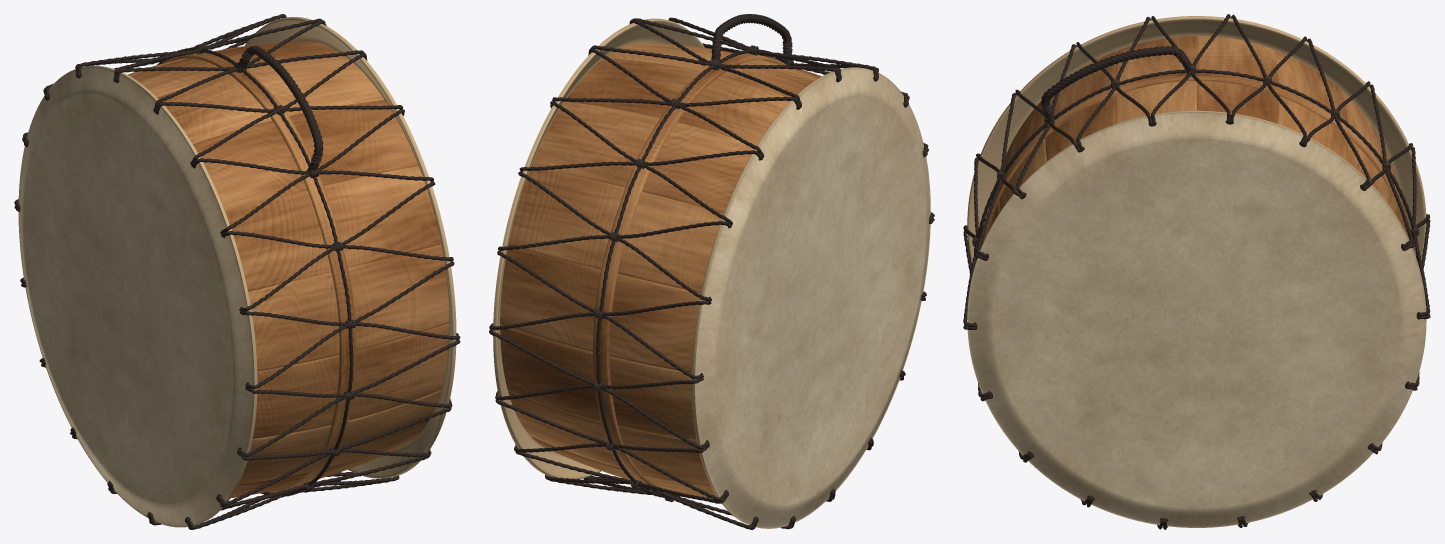
Rendered from buk.glb.
3 renders of one model, left to right at view 1: azimuth 30°, elevation 25°; view 2: azimuth 150°, elevation 25°; view 3: azimuth 270°, elevation 25°, orthographic. The views are drawn at different scales.
Visible parts, largest first — view 1: Honey wood | sixteen staves, Head_B_Outer, Tension cords | dark three-ply, Head_B_Rim, Head_B_Inner, Rim underside A, Bentwood belly hoop, Rim underside B, Carrying loop | braided grip, Bound gathers | cord serving; view 2: Honey wood | sixteen staves, Head_B_Outer, Tension cords | dark three-ply, Head_B_Rim, Head_B_Inner, Rim underside A, Bentwood belly hoop, Rim underside B, Carrying loop | braided grip, Bound gathers | cord serving; view 3: Head_A_Outer, Head_A_Rim, Head_A_Inner, Honey wood | sixteen staves, Rim underside B, Tension cords | dark three-ply, Bentwood belly hoop, Carrying loop | braided grip, Rim underside A, Bound gathers | cord serving.
Part boxes in pixels (box(x1,y1,x2,y2)): Honey wood | sixteen staves: box(128, 40, 449, 497); Head_B_Outer: box(23, 93, 233, 503); Tension cords | dark three-ply: box(14, 14, 460, 529); Head_B_Rim: box(18, 66, 254, 527); Head_B_Inner: box(76, 196, 180, 401); Rim underside A: box(244, 17, 456, 478); Bentwood belly hoop: box(163, 52, 356, 492); Rim underside B: box(86, 65, 257, 524); Carrying loop | braided grip: box(235, 45, 323, 176); Bound gathers | cord serving: box(162, 44, 355, 494); Honey wood | sixteen staves: box(500, 42, 821, 498); Head_B_Outer: box(716, 95, 925, 505); Tension cords | dark three-ply: box(489, 17, 934, 529); Head_B_Rim: box(695, 68, 930, 528); Head_B_Inner: box(768, 197, 873, 402); Rim underside A: box(493, 18, 704, 479); Bentwood belly hoop: box(593, 53, 786, 487); Rim underside B: box(692, 67, 863, 524); Carrying loop | braided grip: box(711, 14, 793, 65); Bound gathers | cord serving: box(594, 40, 792, 502); Head_A_Outer: box(992, 138, 1400, 508); Head_A_Rim: box(967, 112, 1426, 527); Head_A_Inner: box(1095, 231, 1298, 416); Honey wood | sixteen staves: box(987, 36, 1406, 233); Rim underside B: box(967, 16, 1426, 263); Tension cords | dark three-ply: box(963, 14, 1430, 529); Bentwood belly hoop: box(980, 72, 1413, 249); Carrying loop | braided grip: box(1040, 46, 1193, 122); Rim underside A: box(967, 110, 1426, 312); Bound gathers | cord serving: box(972, 51, 1419, 246).
Size of the model in its own units: 0.252 by 0.4973 by 0.4806.
7 materials, 3 textured.
